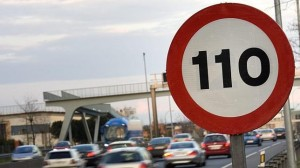Speed_limit_110km: (166, 3, 296, 134)
